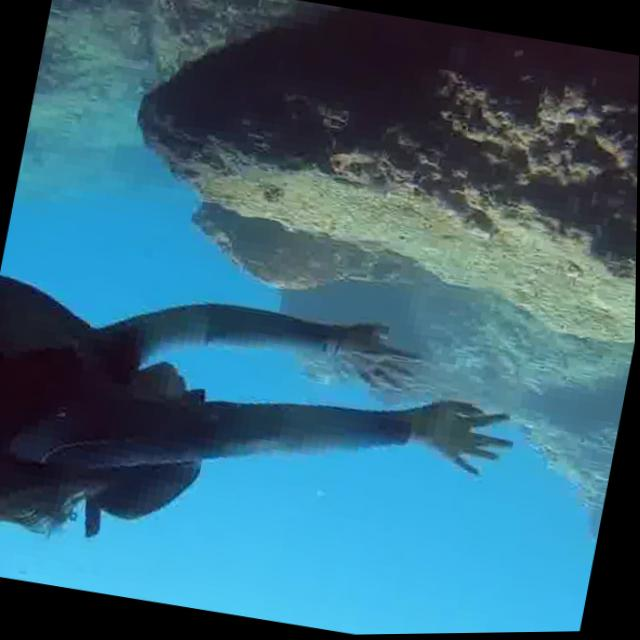human: (0, 129, 569, 640)
